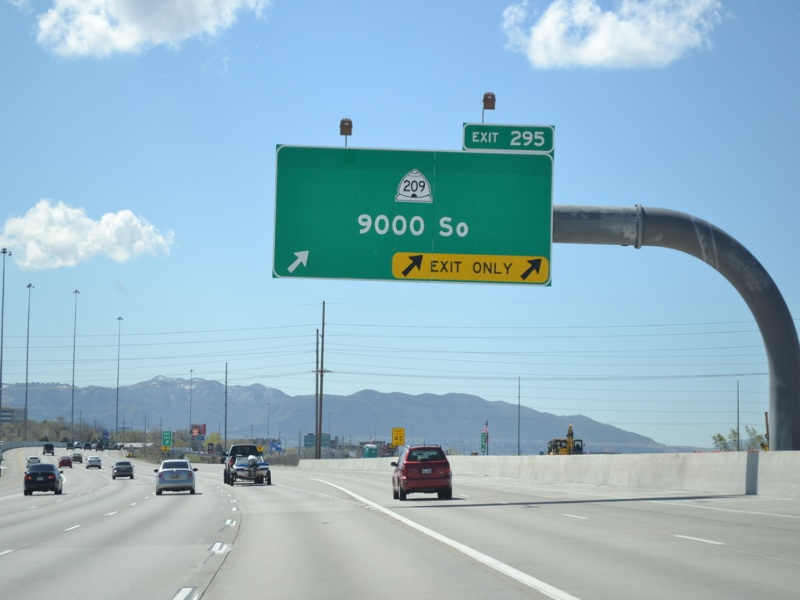exit: (387, 248, 550, 289), (466, 121, 553, 157)
